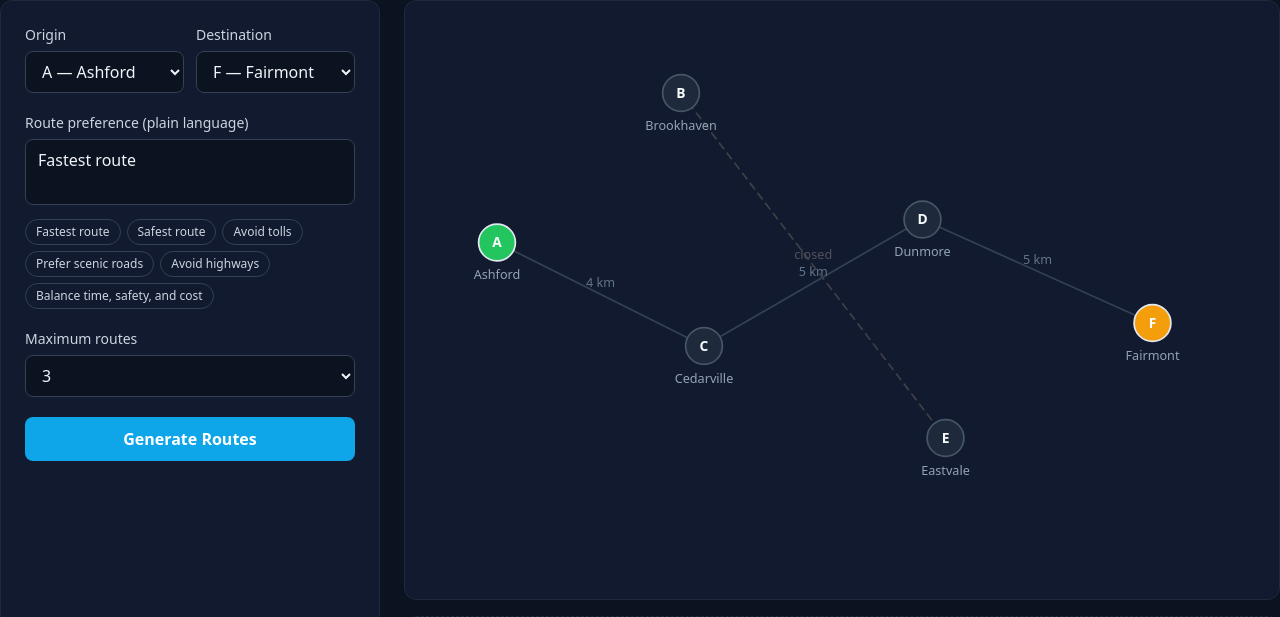
Test: RoutePlanner › shows the parsed-preference summary after ranking
Expected: the dropdown labelled "Origin" is shown, [25,51,184,93]
What coordinates should you click on to do the following:
click the button "Generate Routes"
I would click on:
 (190, 439)
Its box is [25,417,355,461].
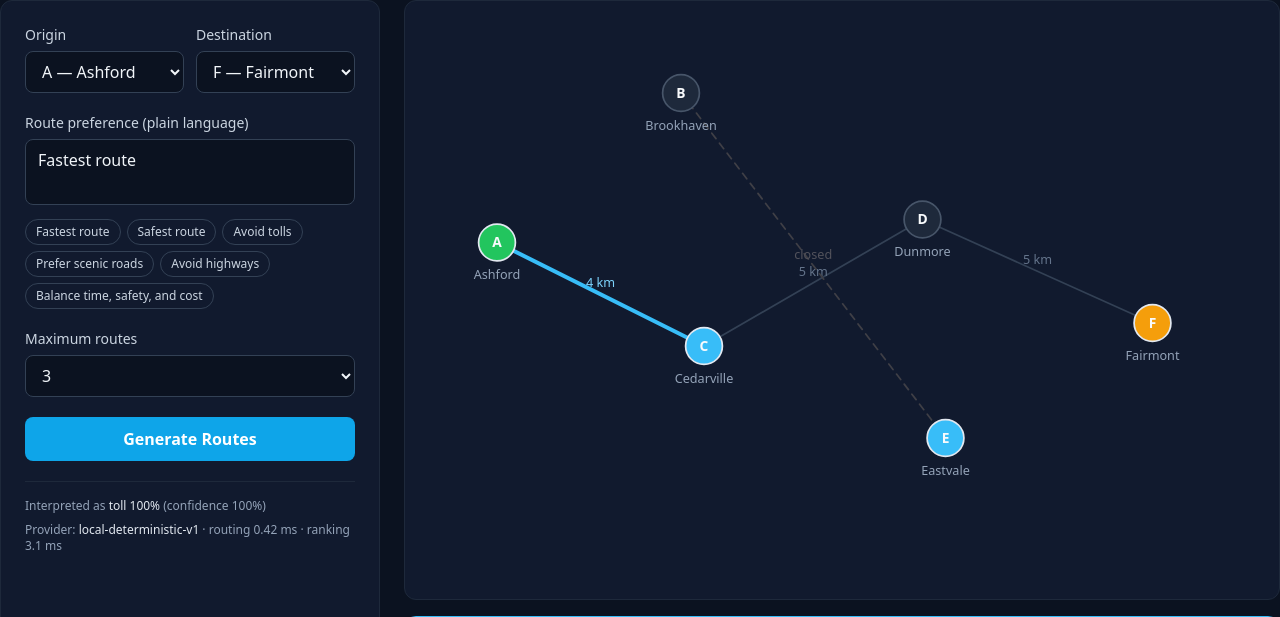
Result: the text "toll 100%" is shown at [109,497,160,514]
Result: the text "local-deterministic-v1" is shown at [79,521,199,538]
